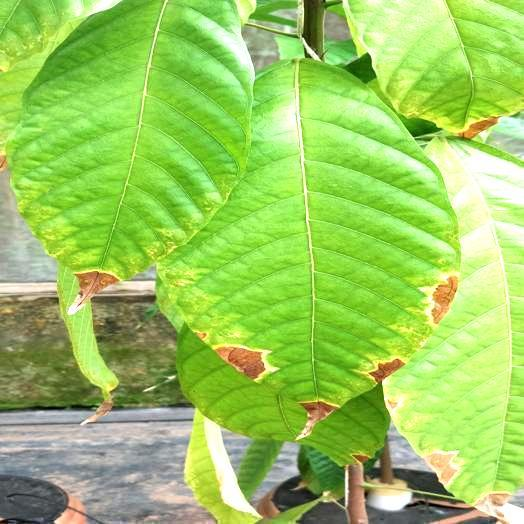Potassium: (161, 59, 457, 438), (9, 0, 253, 313), (385, 139, 523, 521)
